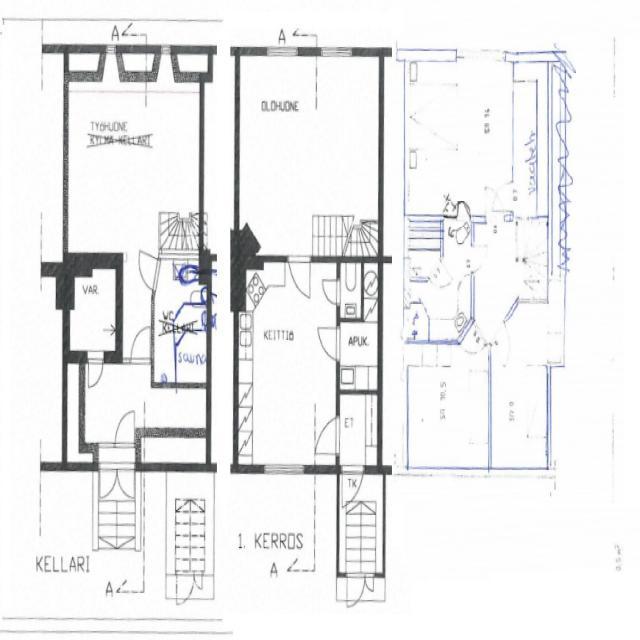door: (286, 250, 314, 302), (313, 414, 342, 462), (341, 572, 374, 610), (112, 405, 138, 452), (95, 462, 124, 504), (129, 321, 153, 366), (136, 250, 160, 294), (341, 464, 365, 508), (491, 319, 512, 369), (316, 323, 342, 363), (114, 462, 138, 503), (485, 181, 511, 216), (319, 275, 343, 309), (86, 352, 105, 392), (462, 320, 482, 354), (470, 242, 489, 273)
window: (402, 44, 458, 66), (410, 464, 480, 481), (260, 458, 308, 480), (458, 46, 507, 66), (262, 42, 302, 62), (101, 41, 122, 78), (318, 42, 356, 62), (157, 41, 176, 73)
zone: (238, 54, 382, 252), (64, 54, 204, 251), (236, 258, 338, 470), (213, 469, 338, 610), (407, 61, 516, 216), (406, 343, 490, 474), (404, 222, 469, 344), (153, 256, 209, 392), (489, 348, 550, 472), (512, 62, 542, 216), (69, 264, 118, 358), (338, 391, 380, 469), (337, 320, 380, 392), (514, 217, 549, 303), (338, 258, 375, 323), (441, 213, 473, 275)
